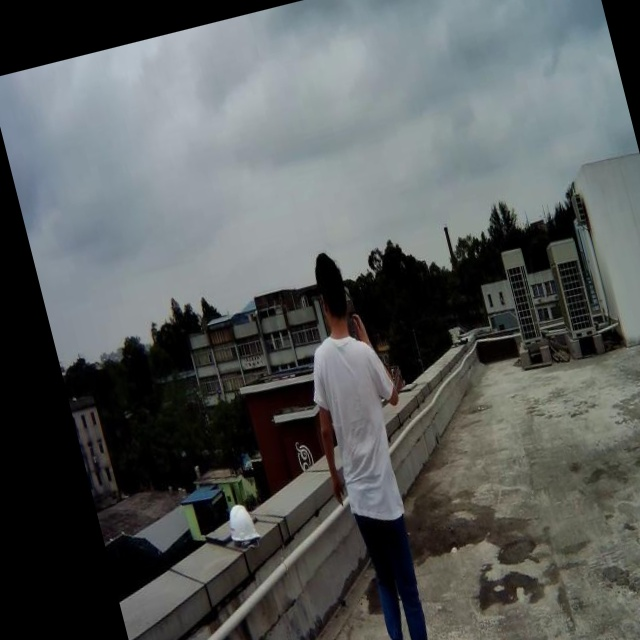Sin_Casco_Mascarrilla: (307, 247, 354, 327)
Sin_Chaleco: (302, 327, 416, 528)
